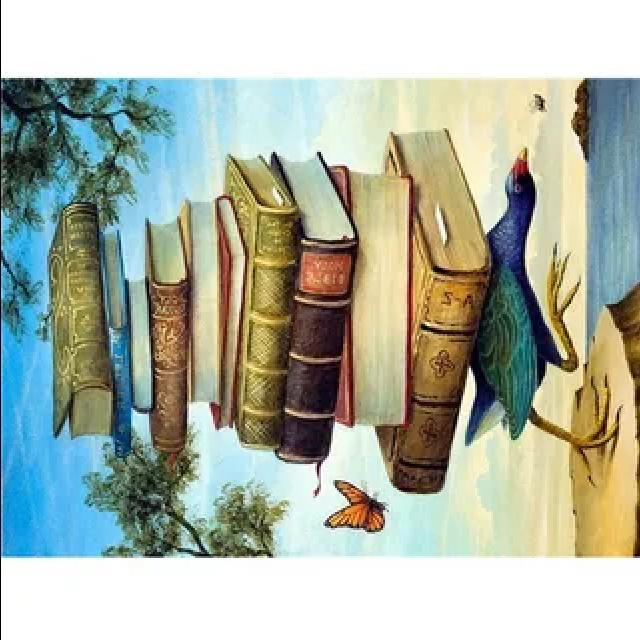book: (378, 129, 494, 509), (134, 206, 207, 487)
